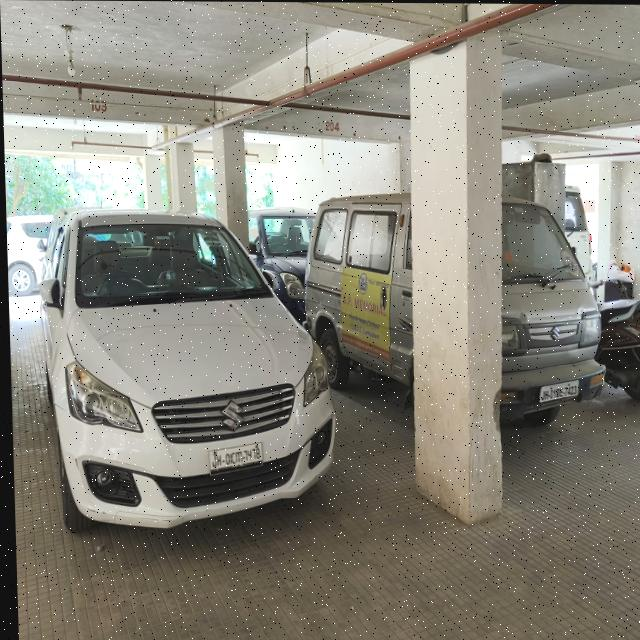bike: (595, 285, 640, 428)
car: (36, 214, 348, 561), (301, 182, 611, 438), (249, 201, 315, 296), (5, 210, 53, 302), (563, 178, 598, 276)
